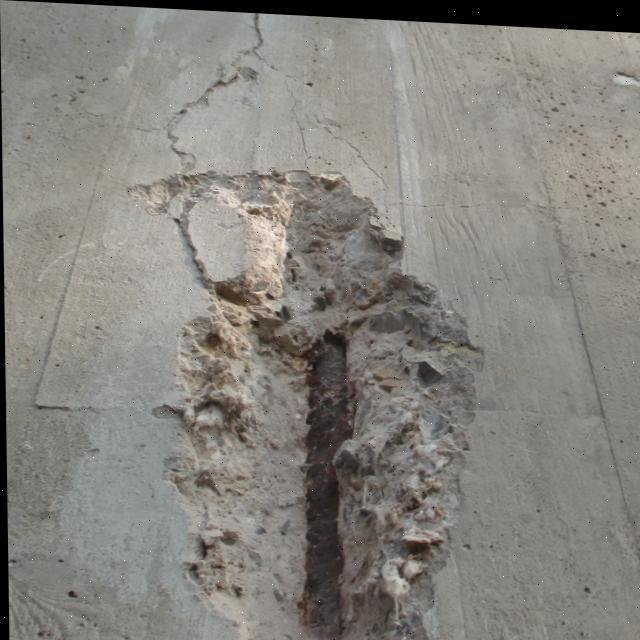D0w0: (154, 166, 481, 637)
